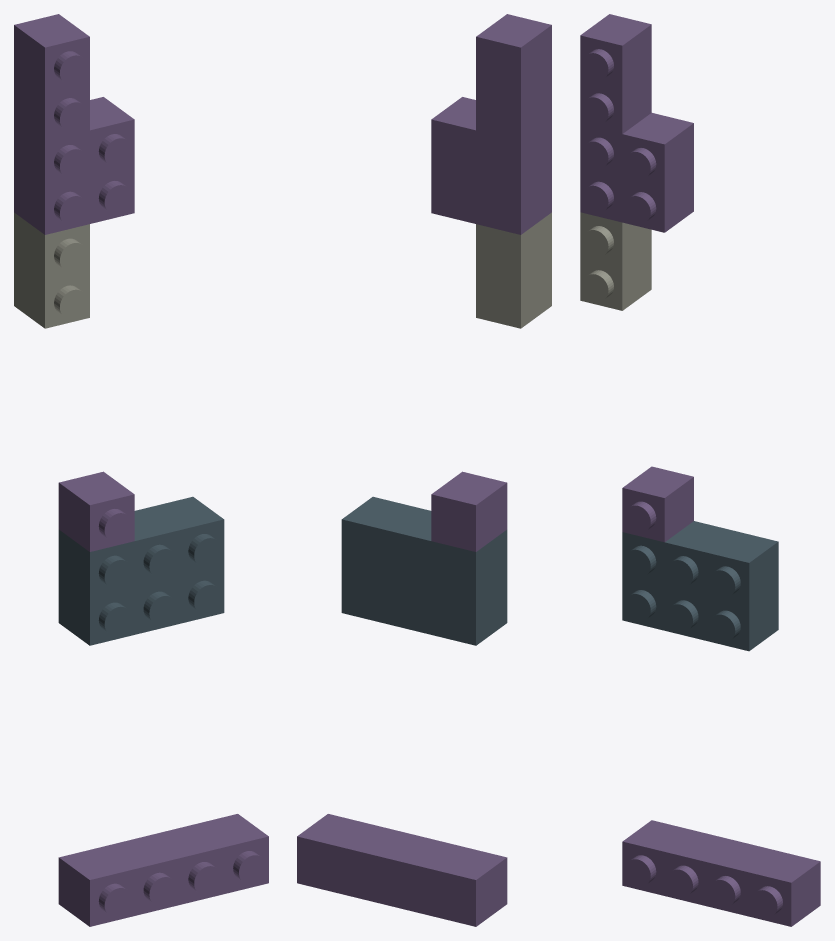
The model's file is current.glb.
The picture shows the model from 3 angles, left to right: view 1: azimuth 30°, elevation 25°; view 2: azimuth 150°, elevation 25°; view 3: azimuth 330°, elevation 25°; orthographic projection. The views are drawn at different scales.
Visible parts, largest first — view 1: world; view 2: world; view 3: world.
Part boxes in pixels (bbox=[...]): world: bbox=[14, 14, 268, 926]; world: bbox=[297, 14, 551, 926]; world: bbox=[580, 14, 820, 926].
Bounding box in the file's own units: 40 × 152 × 11.4.
